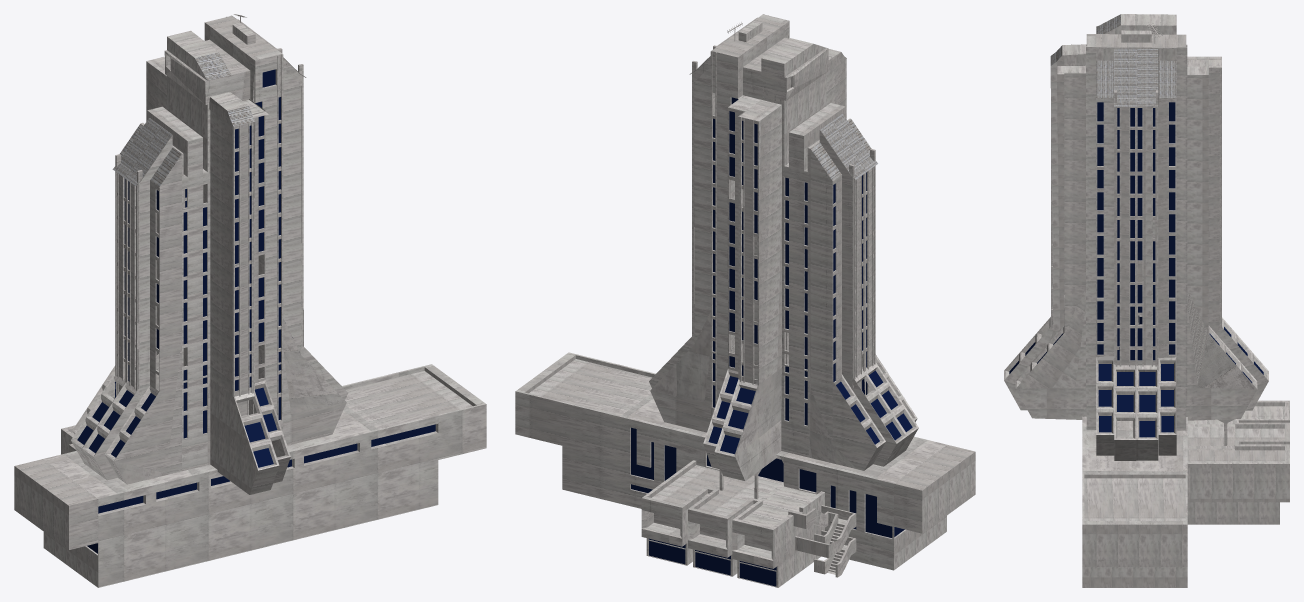
3 renders of one model, left to right at view 1: azimuth 30°, elevation 25°; view 2: azimuth 150°, elevation 25°; view 3: azimuth 270°, elevation 25°, orthographic. The views are drawn at different scales.
Visible parts, largest first — view 1: Material_178-material, Material_164-material, Material_263-material; view 2: Material_178-material, Material_164-material, Material_263-material; view 3: Material_178-material, Material_164-material, Material_263-material.
Boxes of the visible parts, x1,y1,x2,y2 form: Material_178-material: [14, 14, 486, 587]; Material_164-material: [77, 69, 435, 553]; Material_263-material: [112, 52, 254, 186]; Material_178-material: [515, 14, 975, 587]; Material_164-material: [631, 97, 912, 586]; Material_263-material: [811, 113, 877, 180]; Material_178-material: [1004, 14, 1289, 587]; Material_164-material: [1009, 102, 1263, 437]; Material_263-material: [1050, 14, 1176, 106].
Size of the model in its own units: 52.69 by 60.92 by 32.44.
3 materials, 2 textured.
